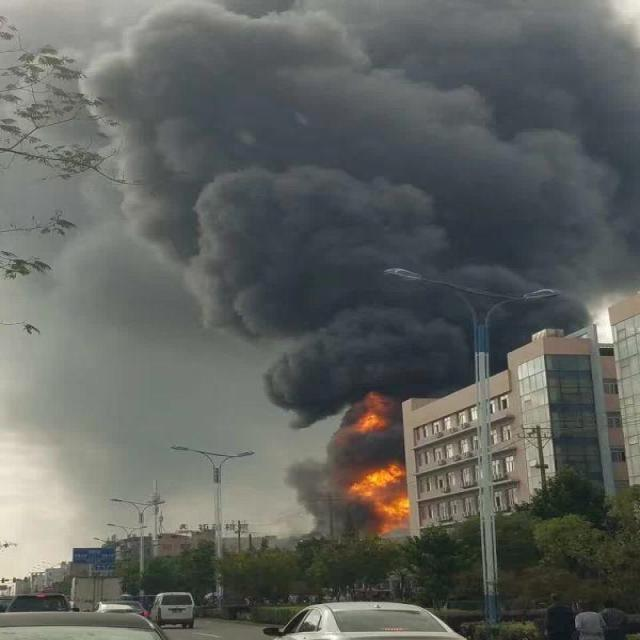fire: (344, 462, 418, 538), (342, 387, 382, 432)
smoke: (78, 18, 620, 391)
